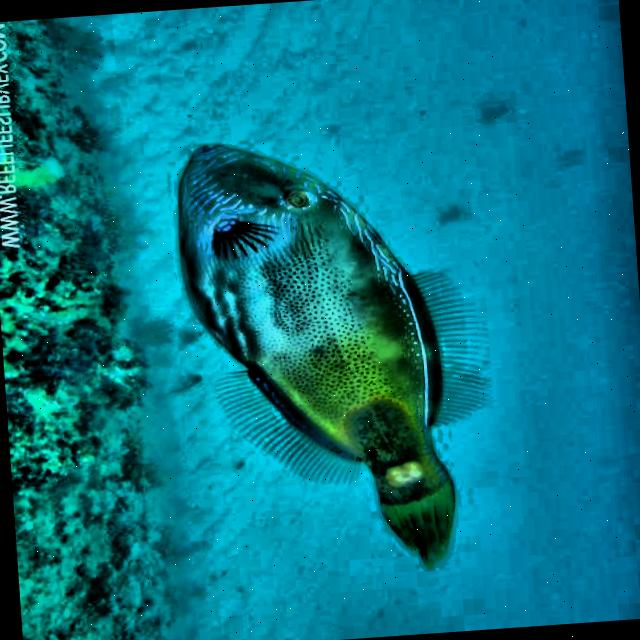fish: (169, 123, 509, 588)
